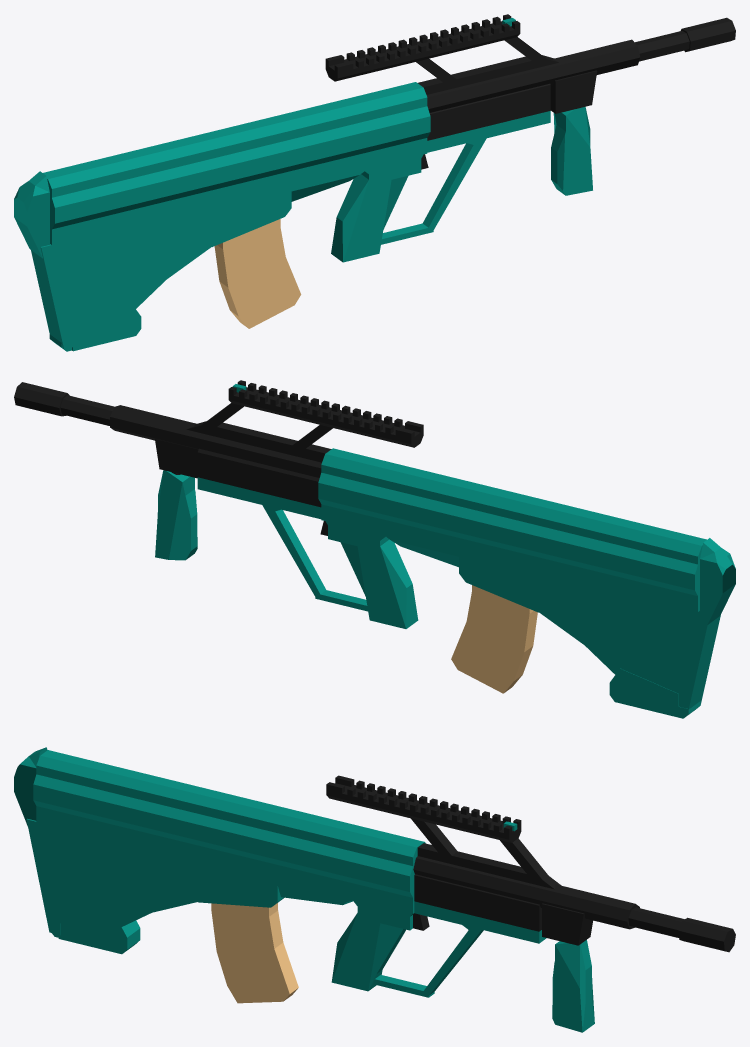
The model's file is scene_X3qiIzKSCB.glb.
3 renders of one model, top to bottom at view 1: azimuth 30°, elevation 25°; view 2: azimuth 150°, elevation 25°; view 3: azimuth 330°, elevation 25°, orthographic.
Parts seen in each view (by area): view 1: group787468052, group1170735151, group814575358, group1557247377, group1961715605, group720782931, group2029782710, group521884354, group1235677144, group734245013, group1897693342, group319369821 (+11 smaller); view 2: group787468052, group1170735151, group814575358, group1557247377, group720782931, group1961715605, group521884354, group2029782710, group1235677144, group734245013, group1897693342, group319369821 (+11 smaller); view 3: group787468052, group1170735151, group814575358, group1557247377, group1961715605, group720782931, group521884354, group1235677144, group2029782710, group734245013, group319369821, group216299371 (+13 smaller).
Boxes of the visible parts, x1,y1,x2,y2 form: group787468052: (43,82,430,244); group1170735151: (214,219,301,328); group814575358: (121,206,211,322); group1557247377: (426,39,640,112); group1961715605: (75,228,120,334); group720782931: (331,174,408,262); group2029782710: (31,239,75,349); group521884354: (551,106,592,195); group1235677144: (212,187,291,246); group734245013: (325,21,520,81); group1897693342: (14,171,49,258); group319369821: (429,83,550,131); group787468052: (318,448,706,611); group1170735151: (451,585,537,693); group814575358: (539,573,630,674); group1557247377: (110,405,321,477); group720782931: (340,539,418,628); group1961715605: (630,595,675,692); group521884354: (155,470,197,560); group2029782710: (676,606,720,709); group1235677144: (459,554,538,612); group734245013: (228,387,423,447); group1897693342: (700,538,735,625); group319369821: (197,448,319,498); group787468052: (33,750,425,913); group1170735151: (211,903,298,1003); group814575358: (106,839,197,934); group1557247377: (413,856,639,929); group1961715605: (60,828,106,934); group720782931: (331,912,405,991); group521884354: (552,940,594,1032); group1235677144: (197,861,284,907); group2029782710: (26,818,60,934); group734245013: (326,783,521,842); group319369821: (414,874,541,923); group216299371: (414,901,546,943).
Size of the model in its own units: 1.36 by 0.44 by 0.0715.
